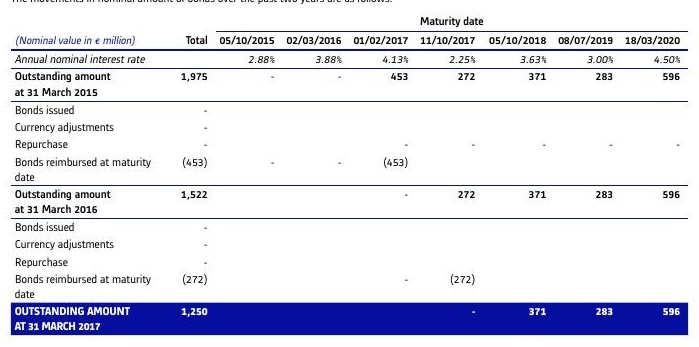table: (0, 0, 699, 347)
